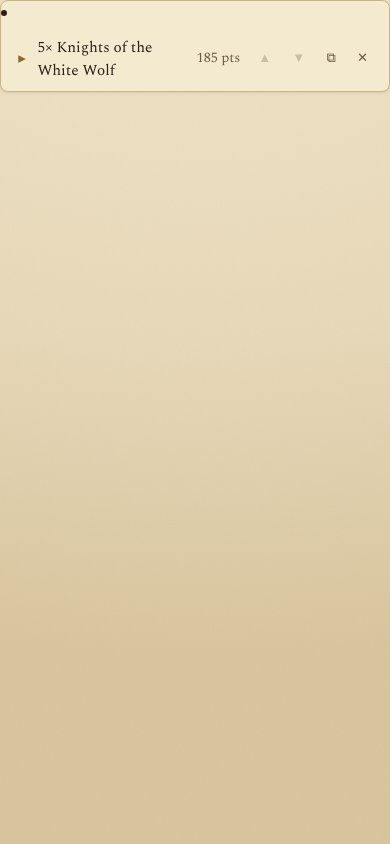
EntryRow cavalry profiles › shows a labelled rider row on top and the mount profile beneath it
The image size is (390, 844).
Step 1. Click the button with class "entry-expand" → {"x": 100, "y": 59}, box [12,35,189,83]
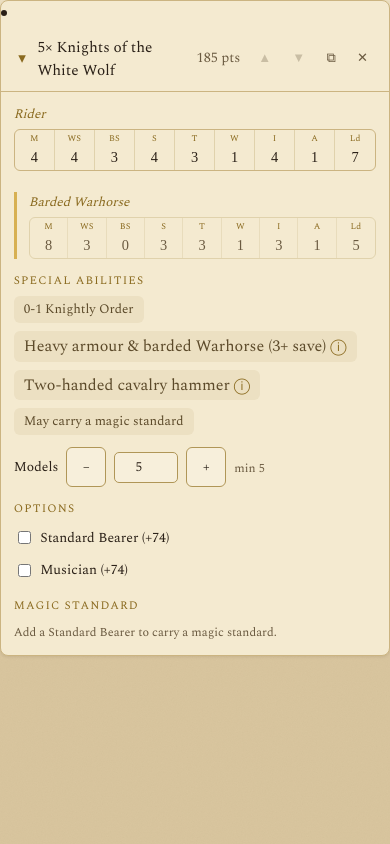
Expected: the number of elements with class "statline" is 2, [14,129,376,171]; [29,217,376,259]
